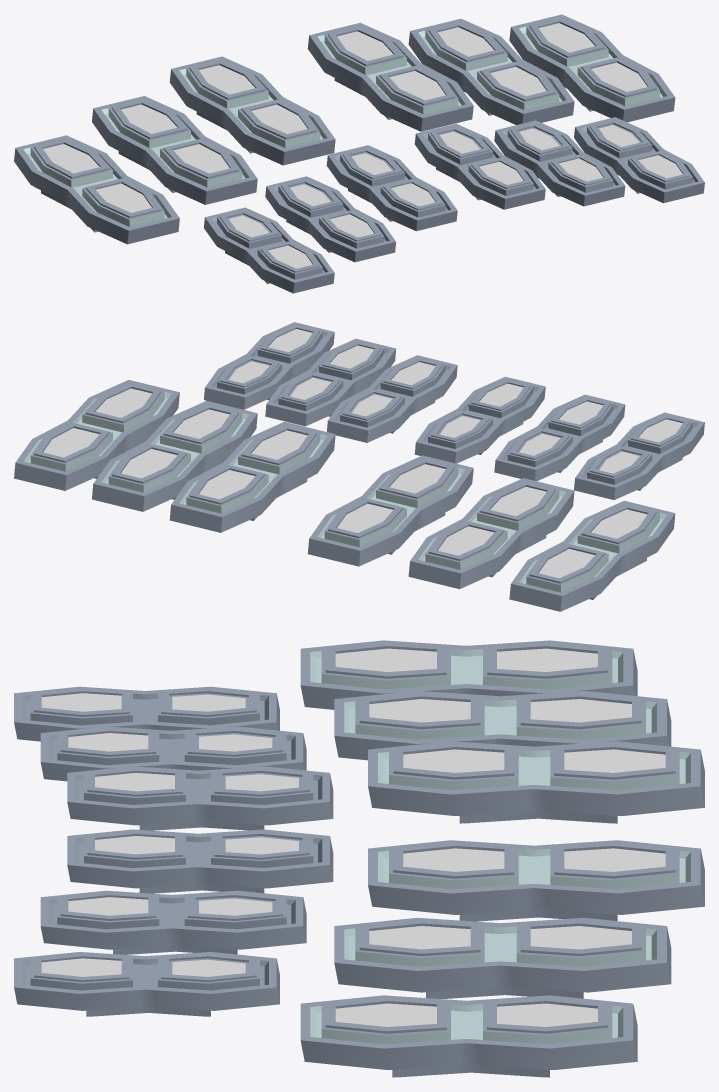
The model's file is Plytki_Shield.fbx.
3 renders of one model, top to bottom at view 1: azimuth 30°, elevation 25°; view 2: azimuth 150°, elevation 25°; view 3: azimuth 270°, elevation 25°, orthographic. The views are drawn at different scales.
Parts seen in each view (by area): view 1: Shield New.005, Shield New.004, Shield New.001, Shield New.003, Shield New.007, Shield New.006, Shield New smaller.003, Shield New smaller.006, Shield New smaller.007, Shield New smaller.002, Shield New smaller.004, Shield New smaller.005; view 2: Shield New.005, Shield New.003, Shield New.001, Shield New.004, Shield New.007, Shield New.006, Shield New smaller.003, Shield New smaller.007, Shield New smaller.006, Shield New smaller.002, Shield New smaller.004, Shield New smaller.005; view 3: Shield New.001, Shield New.007, Shield New.006, Shield New.005, Shield New.004, Shield New.003, Shield New smaller.002, Shield New smaller.005, Shield New smaller.003, Shield New smaller.004, Shield New smaller.006, Shield New smaller.007.
Boxes of the visible parts, bbox=[...] form: Shield New.005: bbox=[307, 22, 473, 131]; Shield New.004: bbox=[14, 135, 179, 244]; Shield New.001: bbox=[169, 56, 335, 165]; Shield New.003: bbox=[92, 96, 257, 204]; Shield New.007: bbox=[509, 14, 675, 122]; Shield New.006: bbox=[408, 18, 574, 124]; Shield New smaller.003: bbox=[414, 123, 545, 209]; Shield New smaller.006: bbox=[265, 176, 396, 262]; Shield New smaller.007: bbox=[204, 207, 334, 293]; Shield New smaller.002: bbox=[326, 145, 457, 231]; Shield New smaller.004: bbox=[494, 120, 625, 206]; Shield New smaller.005: bbox=[574, 117, 704, 203]; Shield New.005: bbox=[169, 421, 335, 532]; Shield New.003: bbox=[408, 478, 574, 589]; Shield New.001: bbox=[307, 455, 473, 566]; Shield New.004: bbox=[509, 500, 675, 611]; Shield New.007: bbox=[14, 380, 179, 490]; Shield New.006: bbox=[92, 400, 257, 511]; Shield New smaller.003: bbox=[327, 355, 457, 442]; Shield New smaller.007: bbox=[574, 412, 704, 499]; Shield New smaller.006: bbox=[494, 394, 625, 481]; Shield New smaller.002: bbox=[414, 376, 545, 463]; Shield New smaller.004: bbox=[265, 338, 396, 426]; Shield New smaller.005: bbox=[204, 322, 334, 409]; Shield New.001: bbox=[368, 741, 704, 823]; Shield New.007: bbox=[300, 995, 637, 1077]; Shield New.006: bbox=[334, 917, 671, 998]; Shield New.005: bbox=[368, 840, 704, 921]; Shield New.004: bbox=[300, 640, 637, 709]; Shield New.003: bbox=[334, 691, 671, 760]; Shield New smaller.002: bbox=[67, 766, 333, 830]; Shield New smaller.005: bbox=[14, 952, 279, 1016]; Shield New smaller.003: bbox=[67, 829, 333, 893]; Shield New smaller.004: bbox=[40, 890, 306, 954]; Shield New smaller.006: bbox=[40, 726, 306, 781]; Shield New smaller.007: bbox=[14, 686, 279, 741].
Bounding box in the file's own units: 38.76 × 3.2 × 27.73.
